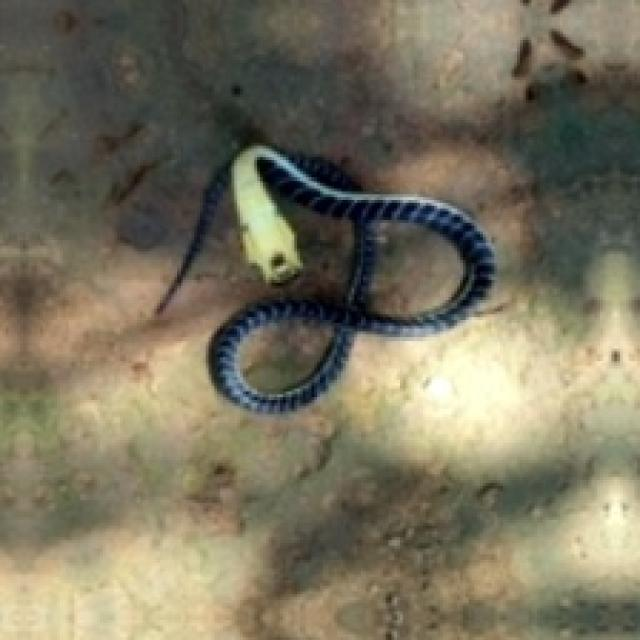king cobra: (157, 146, 491, 411), (363, 217, 463, 320), (237, 317, 334, 394)
